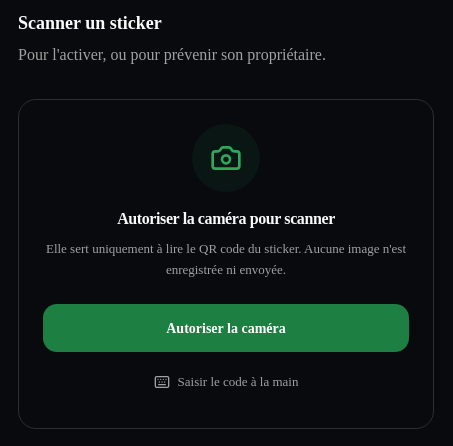
ScanPage › adds the hyphen and the upper case to a pasted code
The image size is (453, 446).
Click the button "Saisir le code à la main" at point(226, 382), box [43,360,409,404]
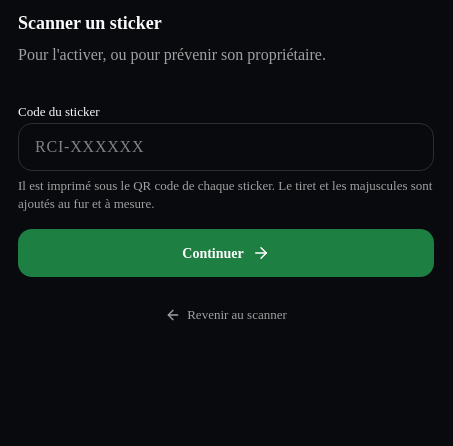
Type "rciabc123" into the field labelled "Code du sticker" at point(226, 147), box [18,123,434,171]
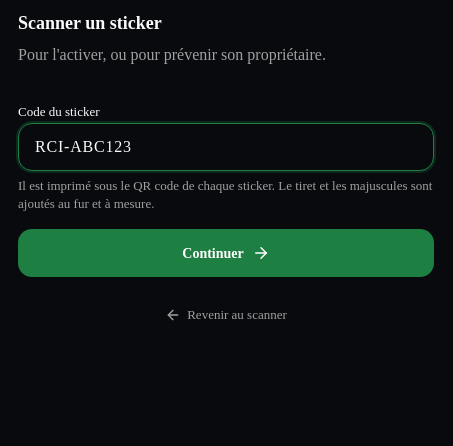
Expected: the field labelled "Code du sticker" holds "RCI-ABC123", [18,123,434,171]
